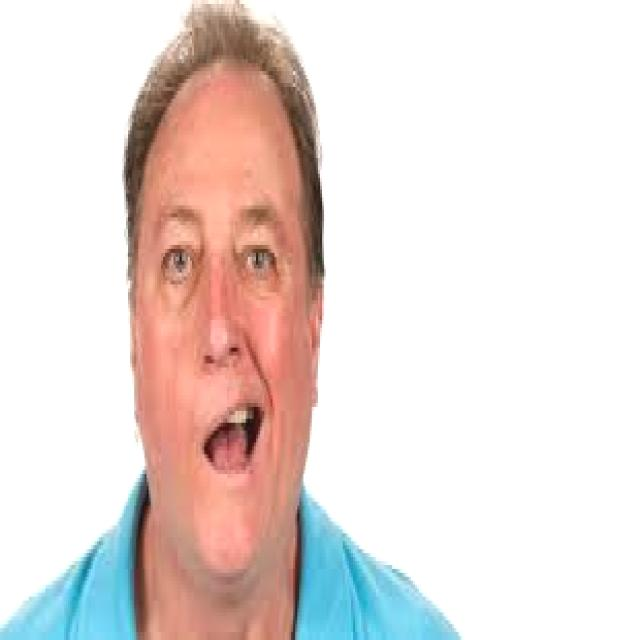stroke_face: (128, 17, 324, 582)
